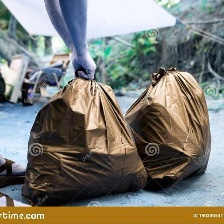plastic_bag: (16, 69, 154, 209), (118, 64, 212, 195)
